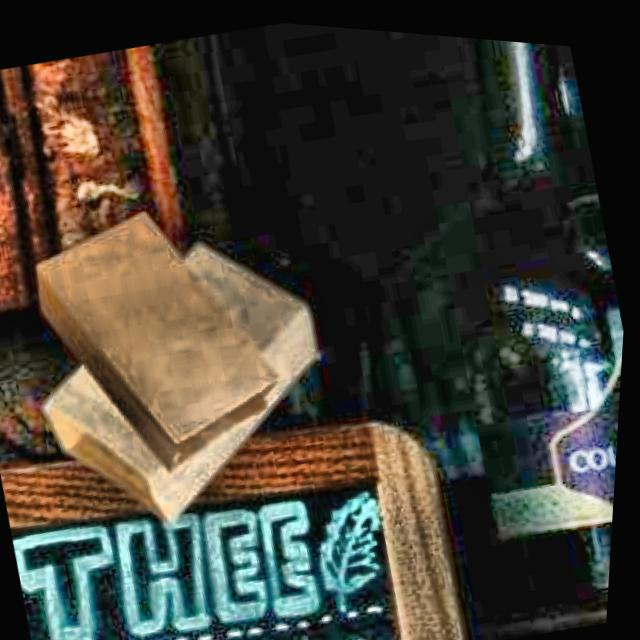Paper-bag: (0, 189, 391, 570), (0, 162, 307, 480)
